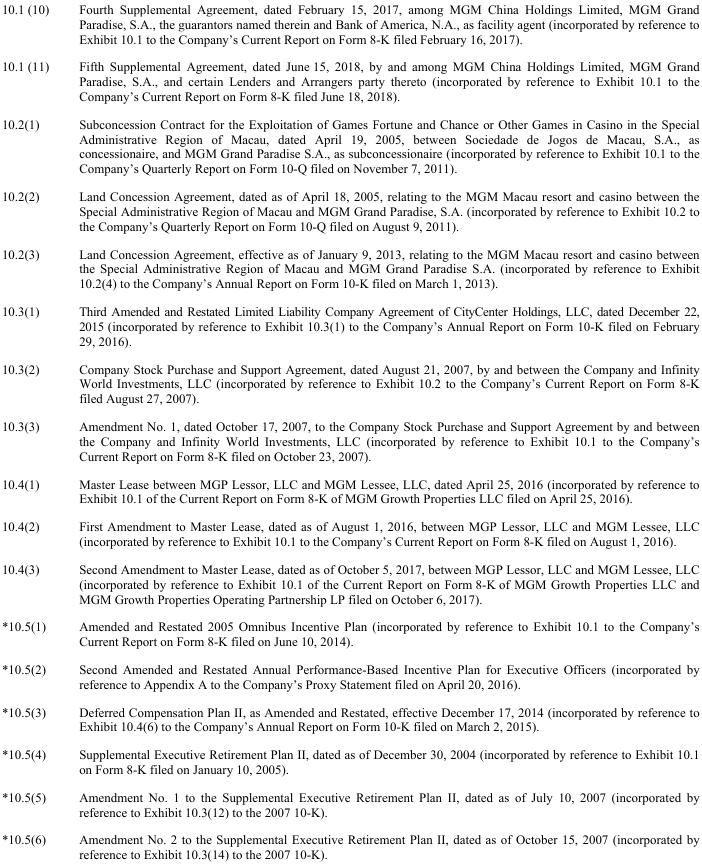table: (0, 1, 698, 861)
table column: (63, 1, 698, 861), (0, 1, 63, 861)
table row: (0, 109, 698, 181), (0, 181, 698, 239), (0, 296, 698, 354), (0, 411, 698, 469), (0, 554, 698, 612), (0, 52, 698, 109), (0, 239, 698, 296), (0, 354, 698, 411), (0, 1, 698, 52), (0, 511, 698, 554), (0, 654, 698, 697), (0, 739, 698, 782), (0, 782, 698, 825), (0, 469, 698, 511), (0, 612, 698, 654), (0, 697, 698, 739), (0, 825, 698, 861)
